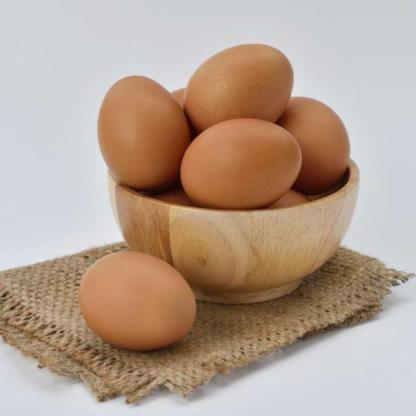egg: (152, 112, 314, 214), (71, 243, 206, 363), (95, 62, 196, 206), (262, 79, 356, 209), (178, 37, 305, 129)
